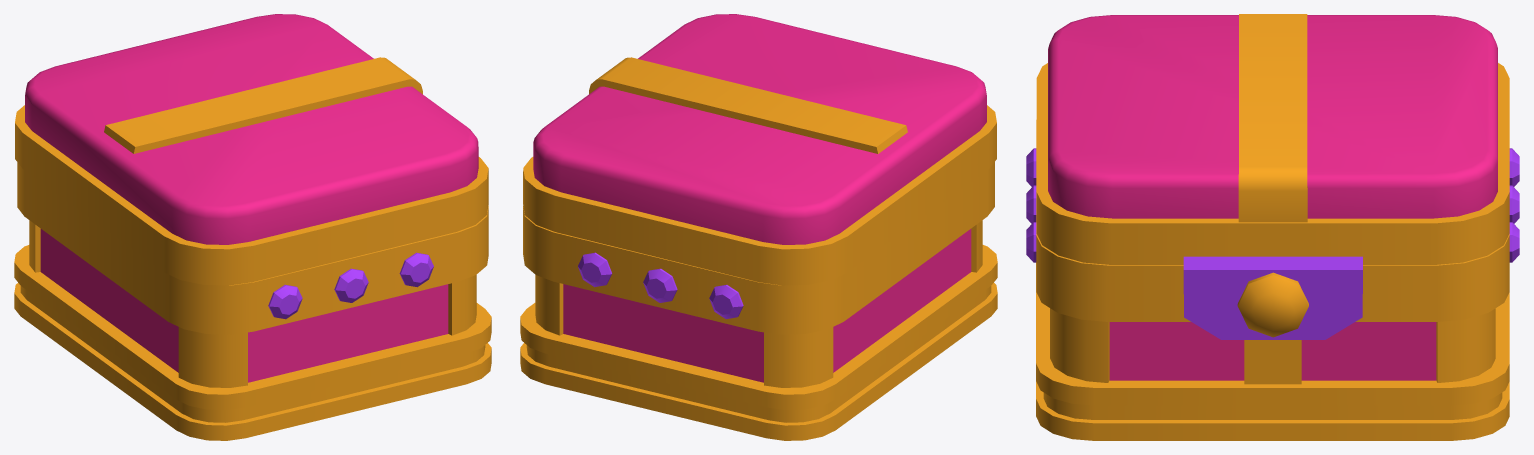
Rendered from ChestDeluxe.fbx.
The picture shows the model from 3 angles, left to right: view 1: azimuth 30°, elevation 25°; view 2: azimuth 150°, elevation 25°; view 3: azimuth 270°, elevation 25°; orthographic projection. The views are drawn at different scales.
Visible parts, largest first — view 1: Cube.036, ChestDeluxe; view 2: Cube.036, ChestDeluxe; view 3: Cube.036, ChestDeluxe, Cube.049.
Boxes of the visible parts, x1,y1,x2,y2 form: Cube.036: [15, 14, 488, 285]; ChestDeluxe: [14, 162, 491, 440]; Cube.036: [523, 14, 996, 285]; ChestDeluxe: [520, 162, 997, 440]; Cube.036: [1036, 14, 1509, 264]; ChestDeluxe: [1026, 120, 1519, 440]; Cube.049: [1183, 256, 1362, 339].
Size of the model in its own units: 162 by 103 by 170.
